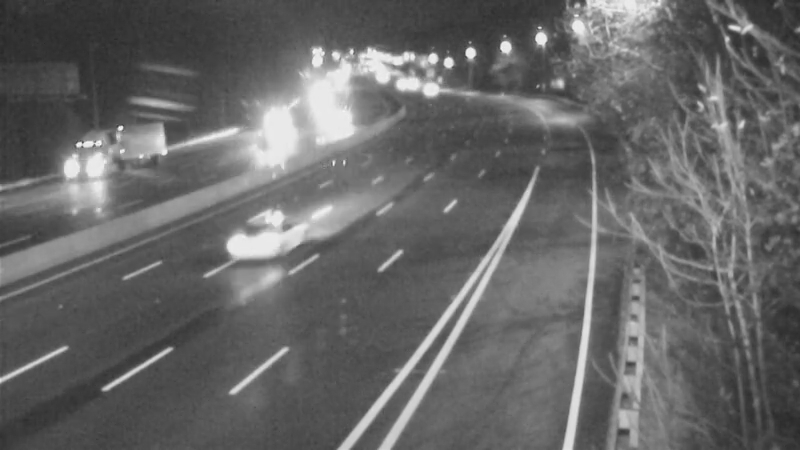vehicle: (223, 205, 303, 285), (59, 127, 139, 207), (403, 62, 453, 112), (249, 119, 299, 169)
